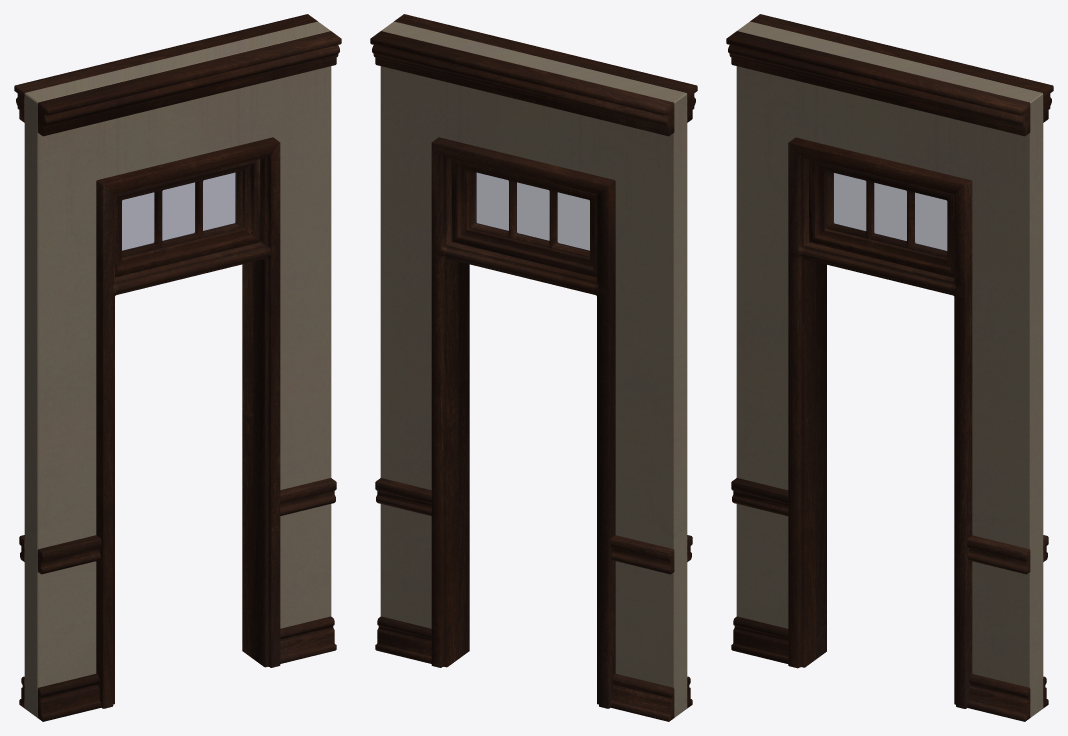
Rendered from SK1 DOOR1 INT.fbx.
3 renders of one model, left to right at view 1: azimuth 30°, elevation 25°; view 2: azimuth 150°, elevation 25°; view 3: azimuth 330°, elevation 25°, orthographic.
Parts seen in each view (by area): view 1: SK1 DOOR1 INT; view 2: SK1 DOOR1 INT; view 3: SK1 DOOR1 INT.
Part boxes in pixels (x1,y1,x2,y2): SK1 DOOR1 INT: (14,14,341,721); SK1 DOOR1 INT: (370,14,697,721); SK1 DOOR1 INT: (726,14,1053,721).
Bounding box in the file's own units: 200 × 400 × 39.93.
